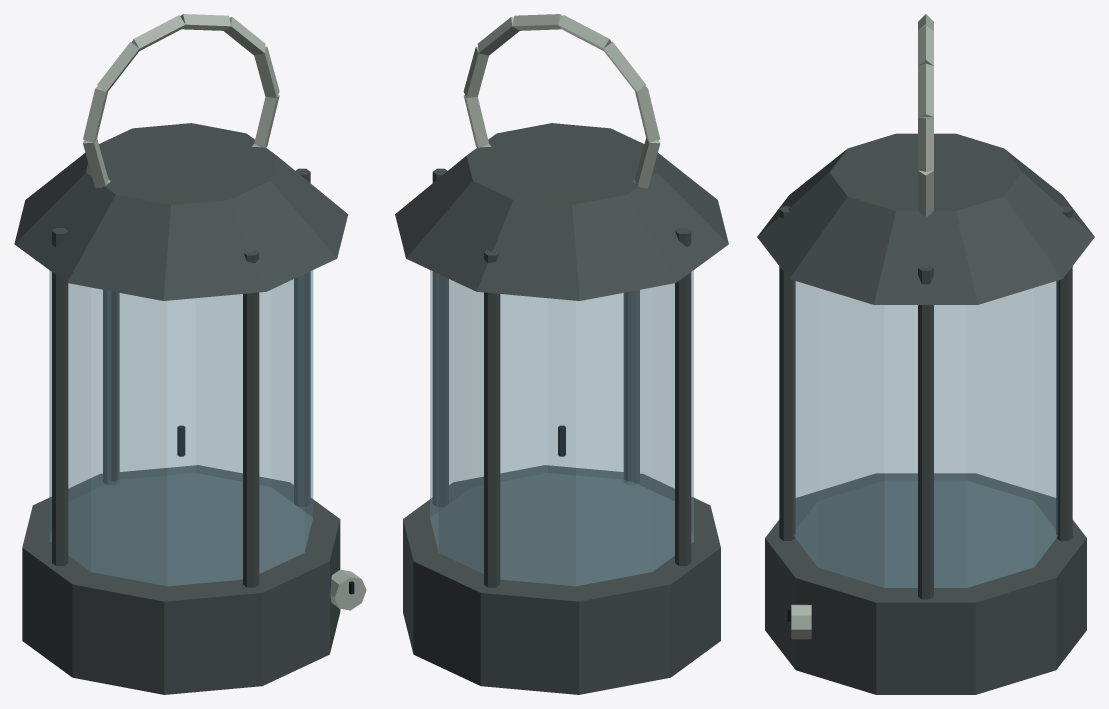
The model's file is blender_firelight_3.glb.
3 views of the same model, side by side, from view 1: azimuth 30°, elevation 25°; view 2: azimuth 150°, elevation 25°; view 3: azimuth 270°, elevation 25° (orthographic).
Parts seen in each view (by area): view 1: blender_firelight_3; view 2: blender_firelight_3; view 3: blender_firelight_3.
Boxes of the visible parts, x1,y1,x2,y2 form: blender_firelight_3: [14, 14, 366, 694]; blender_firelight_3: [395, 14, 728, 694]; blender_firelight_3: [757, 14, 1094, 694].
Bounding box in the file's own units: 0.1578 × 0.3282 × 0.1659.
Materials: 2 (2 with a texture image).
